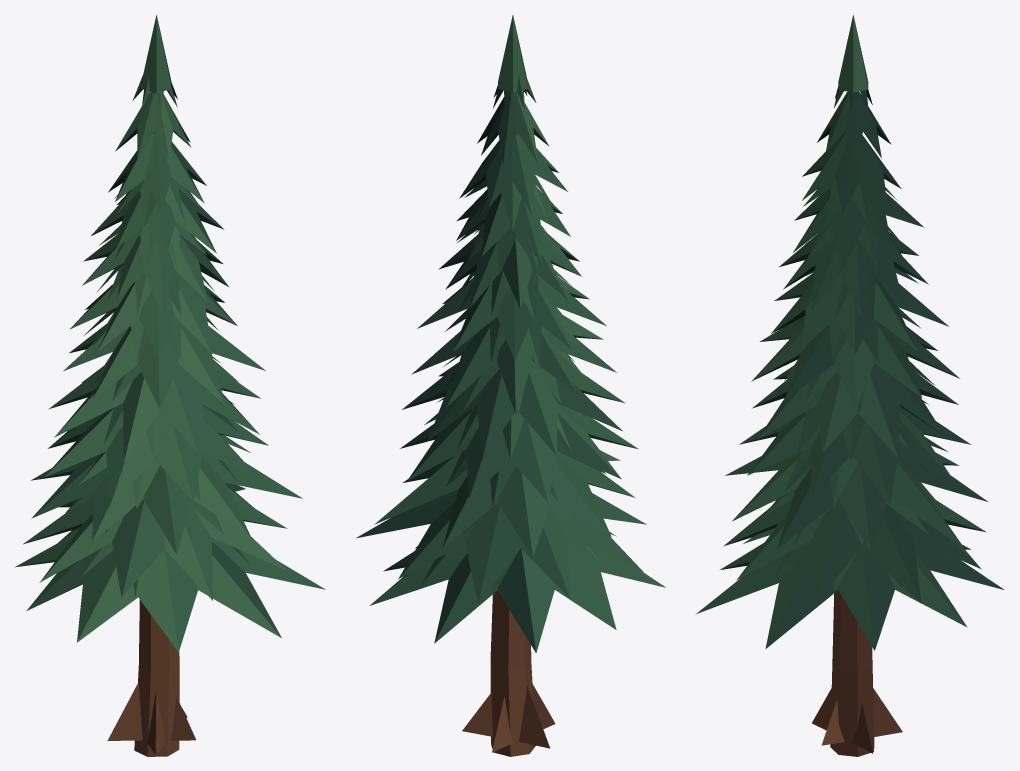
Rendered from wf_pine.glb.
The picture shows the model from 3 angles, left to right: view 1: azimuth 30°, elevation 25°; view 2: azimuth 150°, elevation 25°; view 3: azimuth 270°, elevation 25°; orthographic projection.
Parts seen in each view (by area): view 1: wf_pine; view 2: wf_pine; view 3: wf_pine.
Boxes of the visible parts, left/top/right/bottom form: wf_pine: left=15, top=15, right=325, bottom=756; wf_pine: left=356, top=15, right=665, bottom=756; wf_pine: left=696, top=15, right=1004, bottom=756.
Size of the model in its own units: 5.85 by 16.4 by 6.28.
